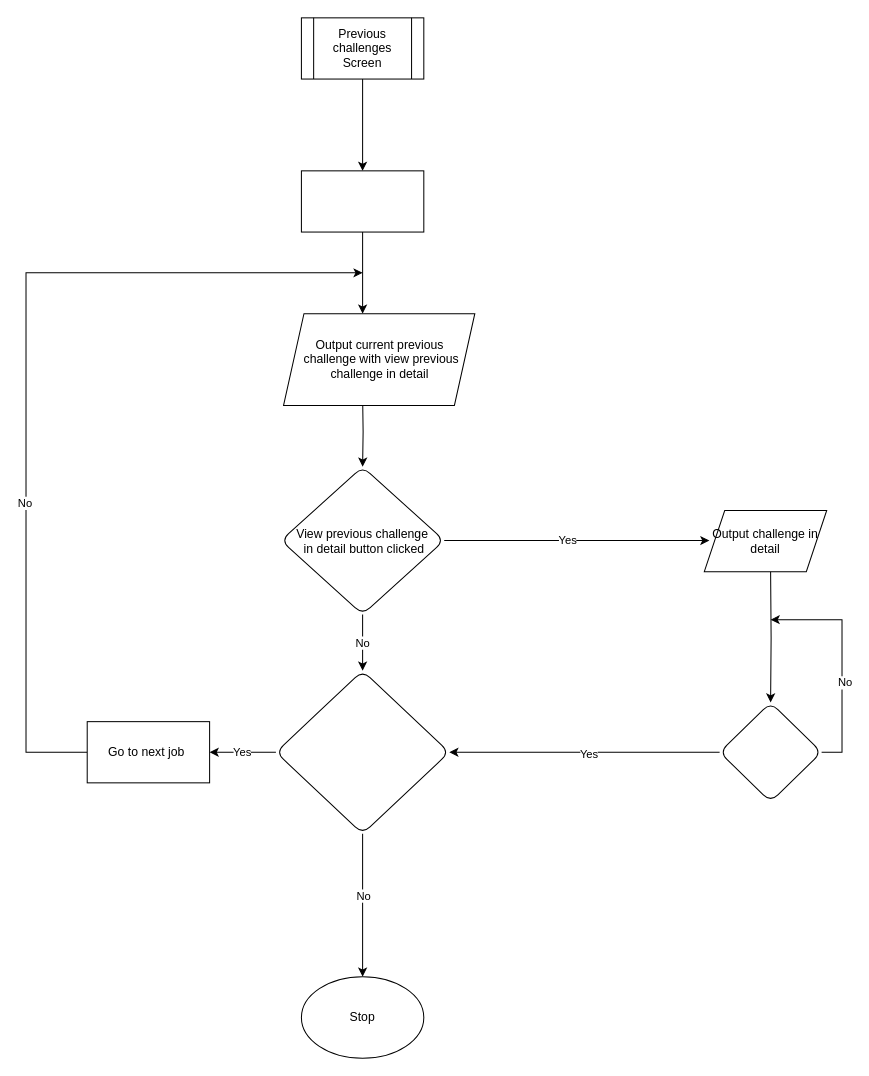
Image size: 869x1076. Some labels were removed from this diagram. The shapes that lost their labels are listed below. From the top down, each one's centre as x and y in pixels, then its label:
At point 362,201: "Fetch previous challenges linked to freelancer".
At point 362,752: "Current job != Last job".
At point 770,751: "Back button clicked".
